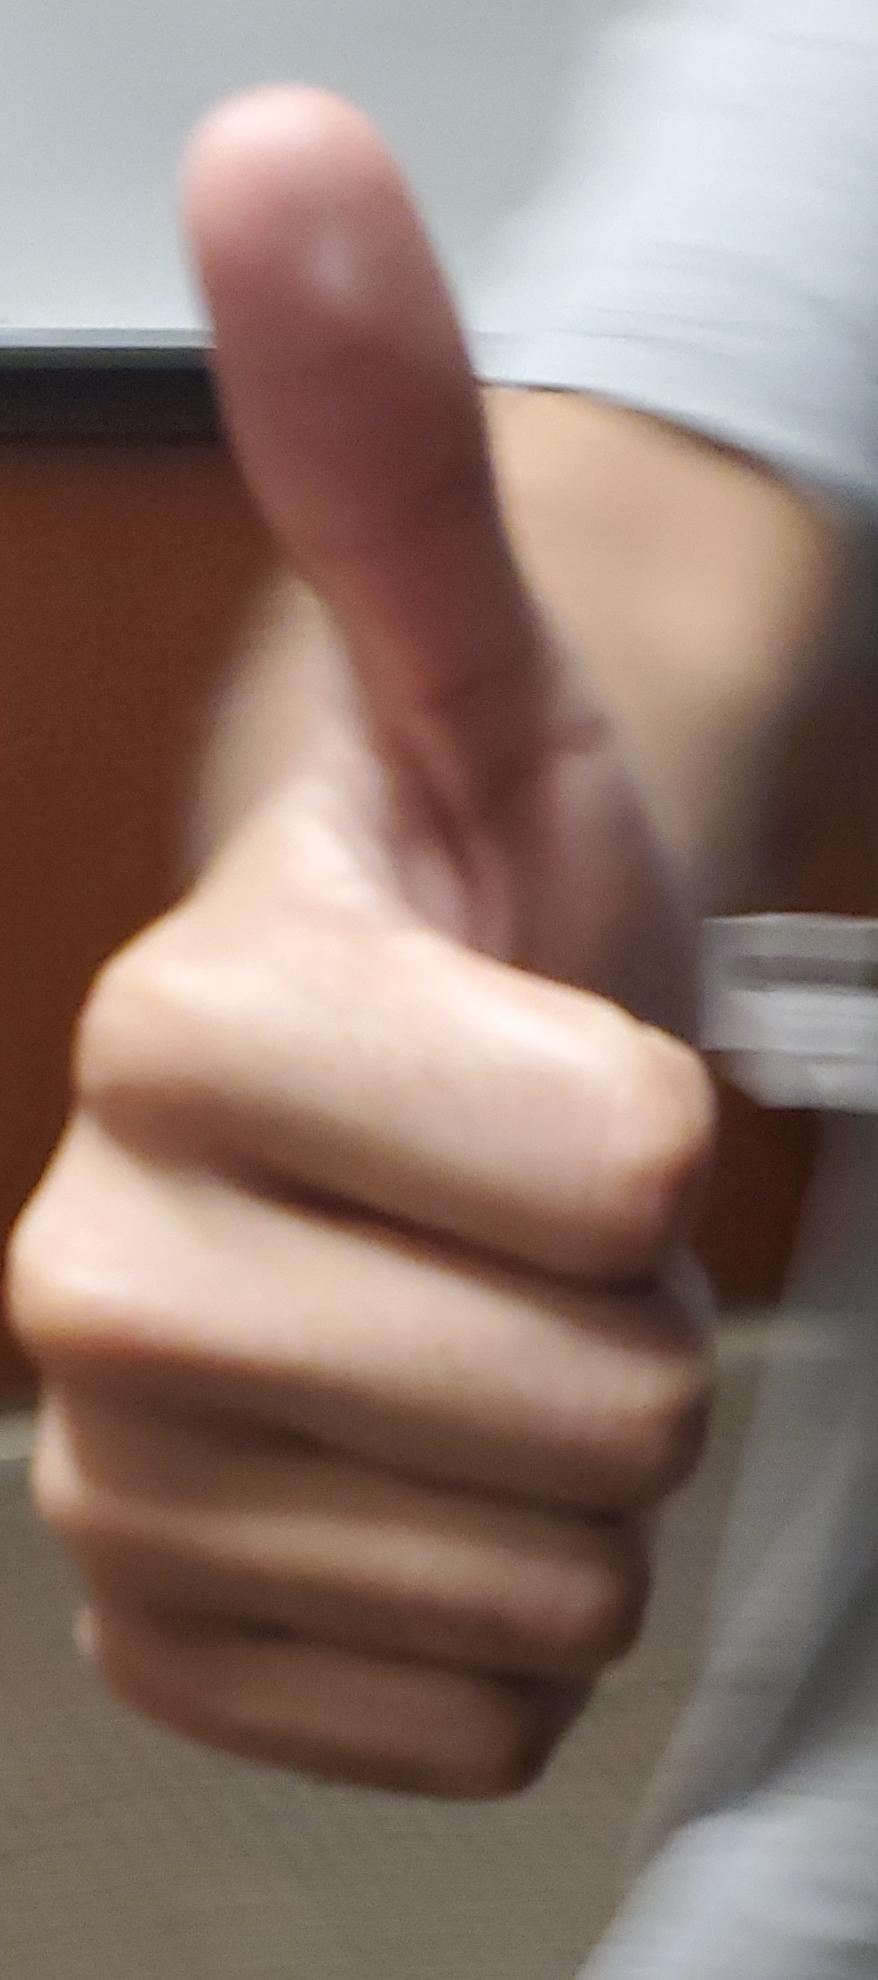up: (0, 1, 878, 1980)
